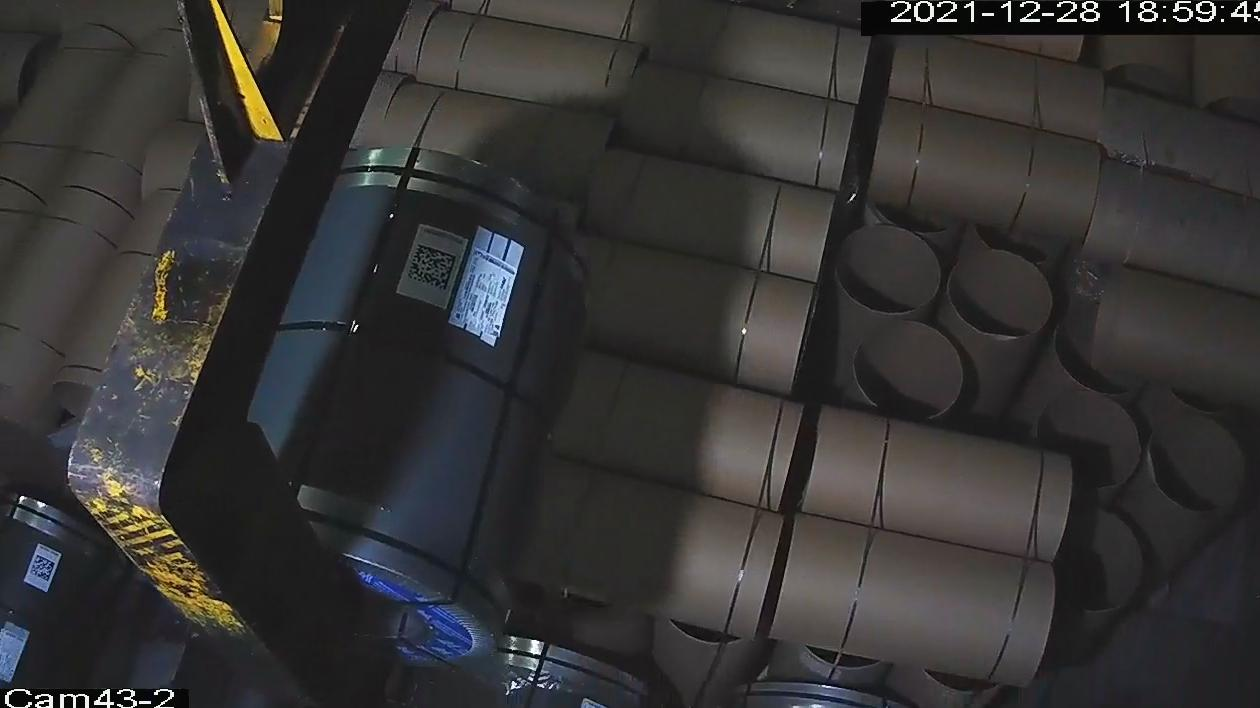data matrix: (404, 243, 461, 295)
